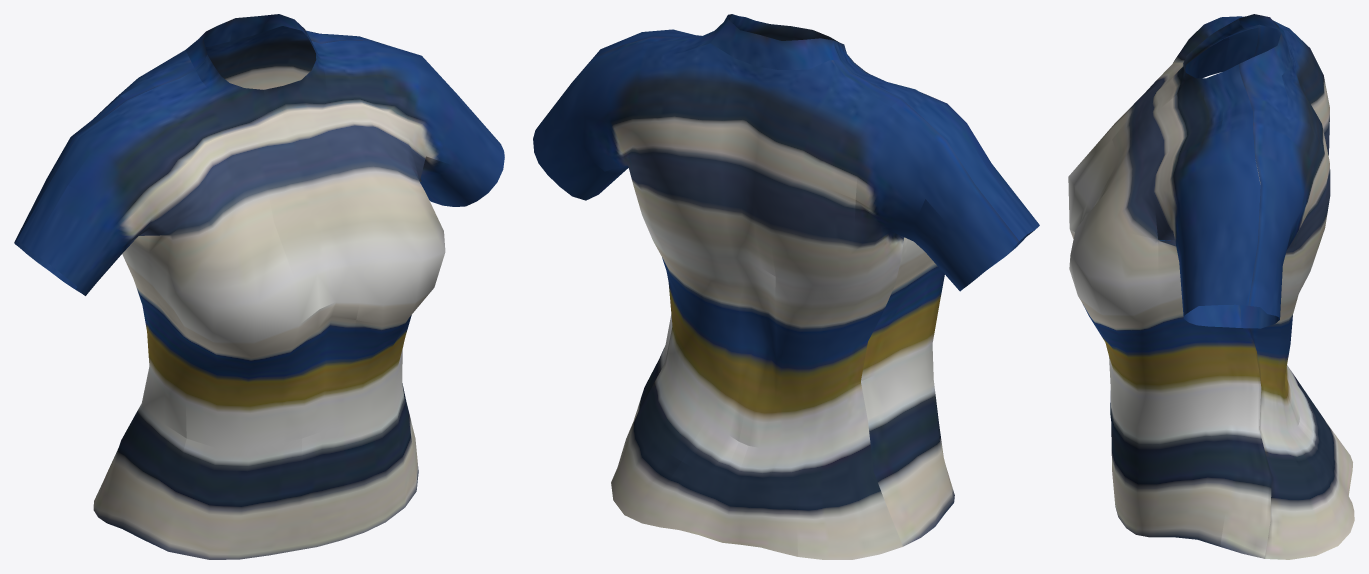
File: TM_XLF.dae
3 views of the same model, side by side, from view 1: azimuth 30°, elevation 25°; view 2: azimuth 150°, elevation 25°; view 3: azimuth 270°, elevation 25° (orthographic). The views are drawn at different scales.
Parts seen in each view (by area): view 1: TM; view 2: TM; view 3: TM.
Boxes of the visible parts, bbox=[...] form: TM: bbox=[14, 14, 504, 559]; TM: bbox=[533, 14, 1039, 559]; TM: bbox=[1068, 14, 1354, 559].
Size of the model in its own units: 5.6 by 5.33 by 2.98.
